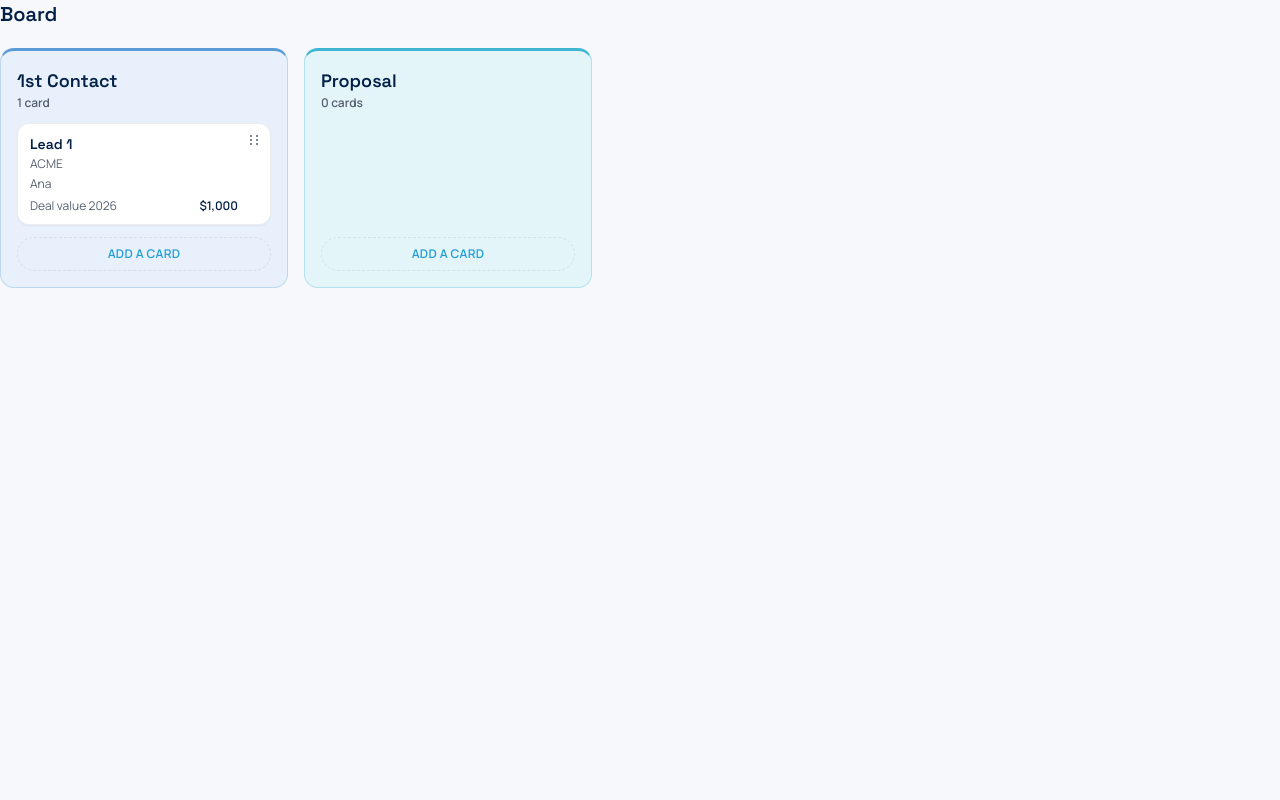
compact central card and its details › closes with Escape and gives the focus back to the card
Click the button with aria-label "Open details for Lead 1".
click(144, 174)  # box top-left (30, 134), bottom-right (258, 214)
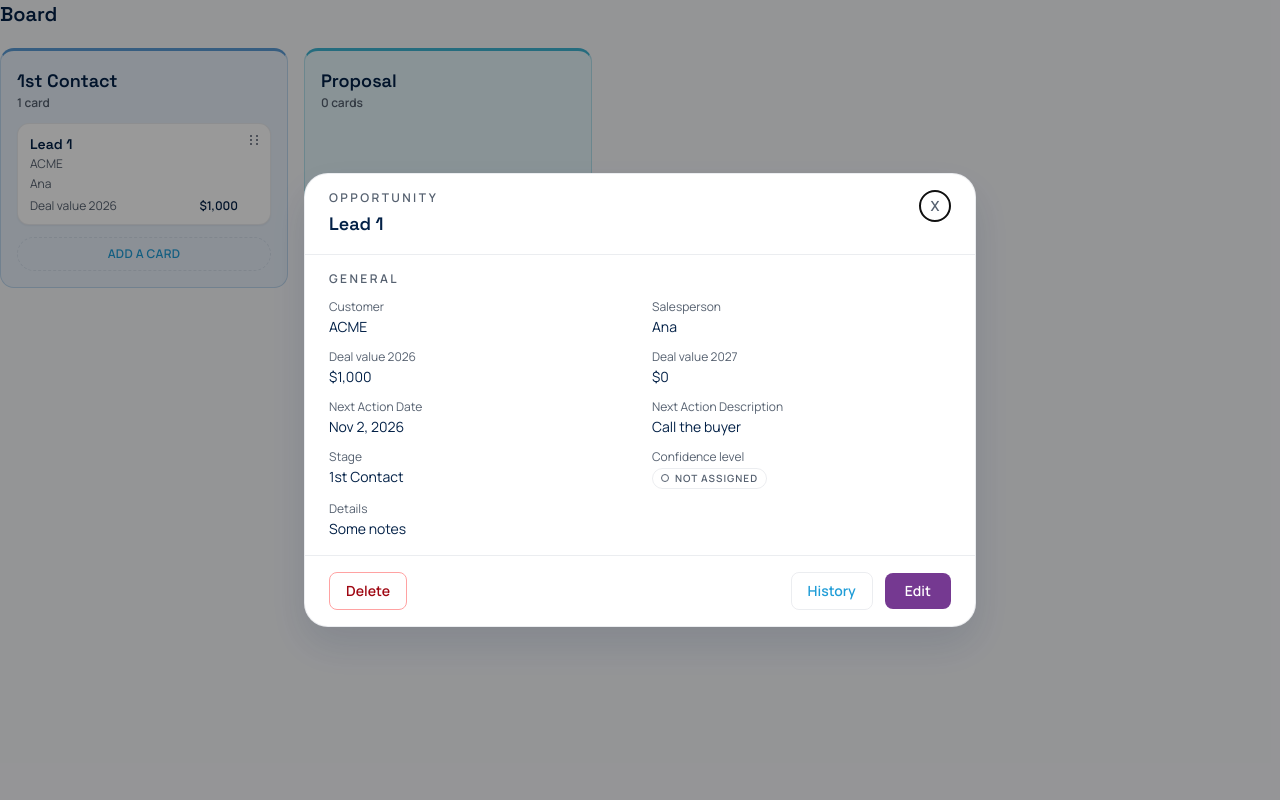
Press Escape
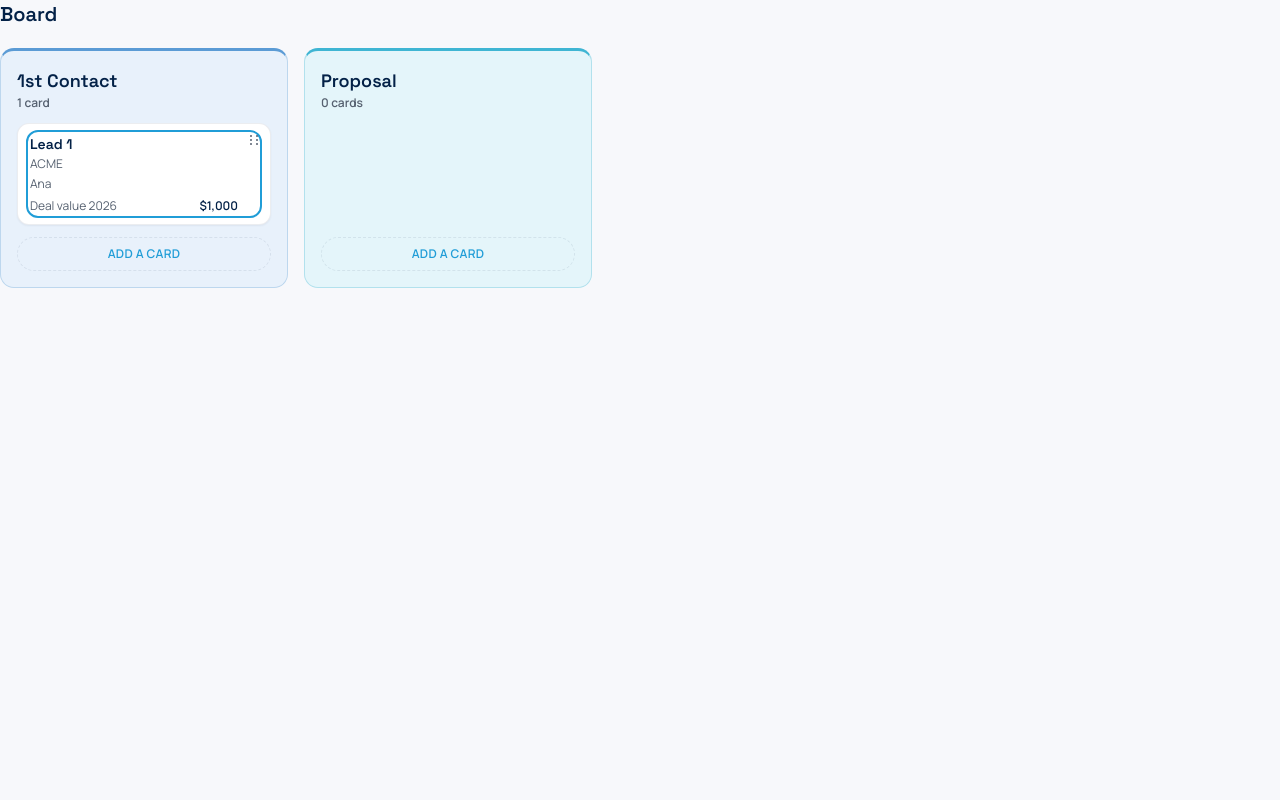
Expected: the dialog is gone
